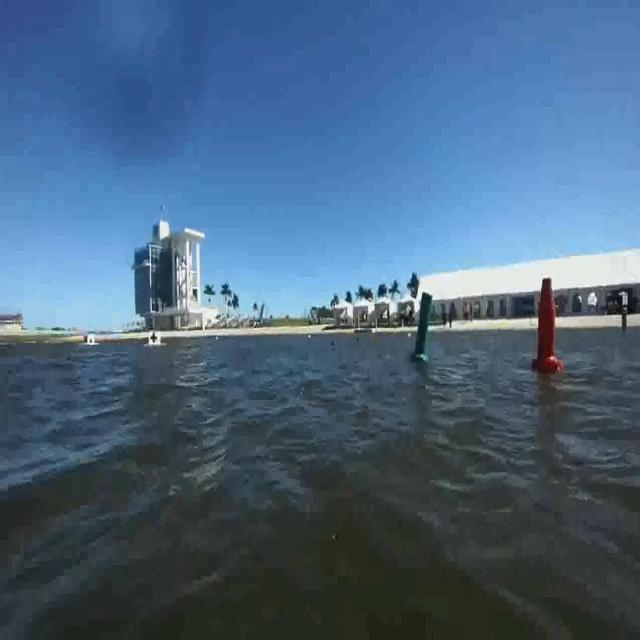green-column-buoy: (410, 288, 436, 364)
red-column-buoy: (531, 276, 562, 375)
